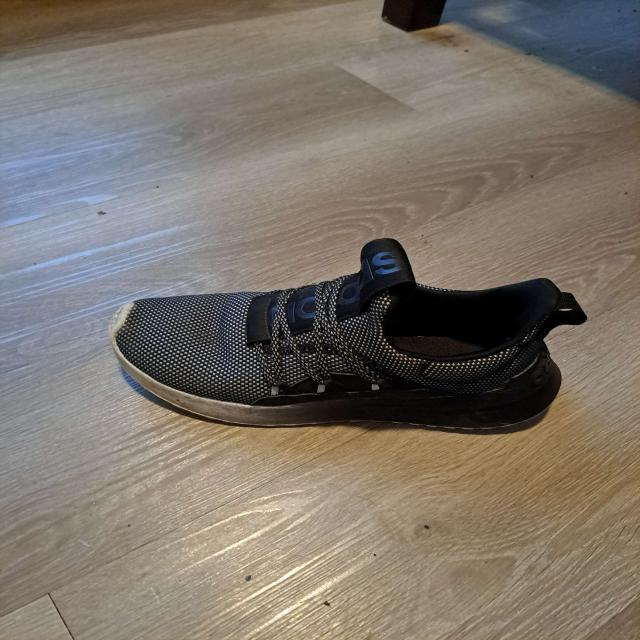shoe: (107, 236, 589, 432)
